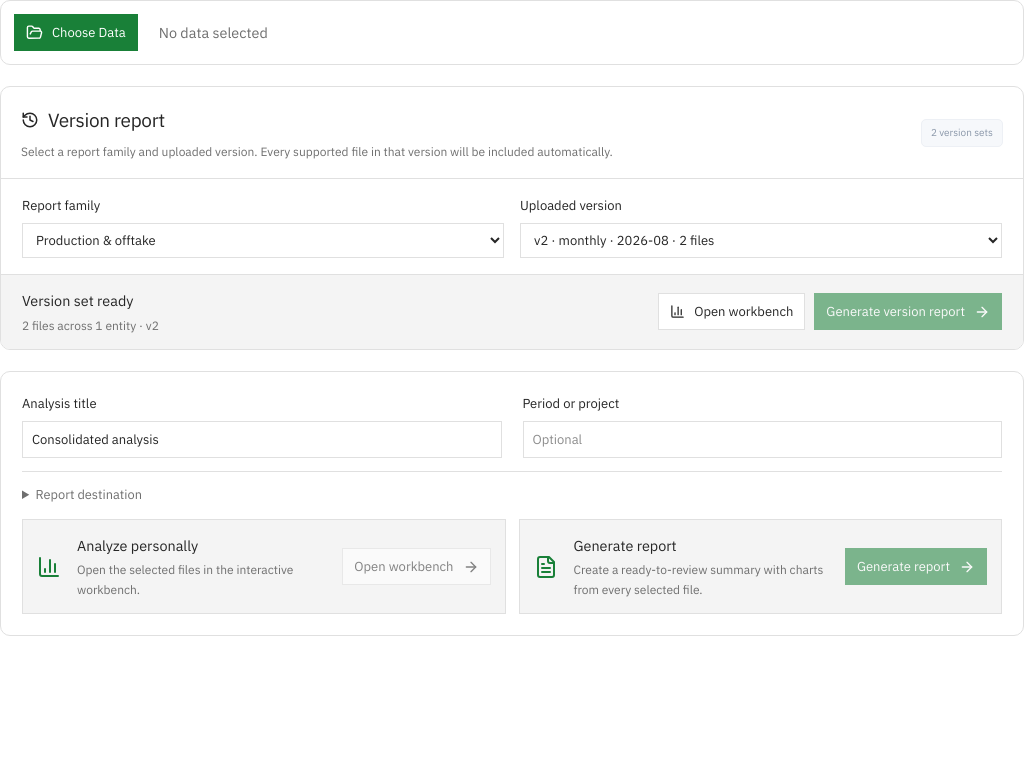
browses and searches the root-wise CIL data hierarchy
The image size is (1024, 768).
Click the button "Choose Data" at [76, 32], box [14,14,138,51]
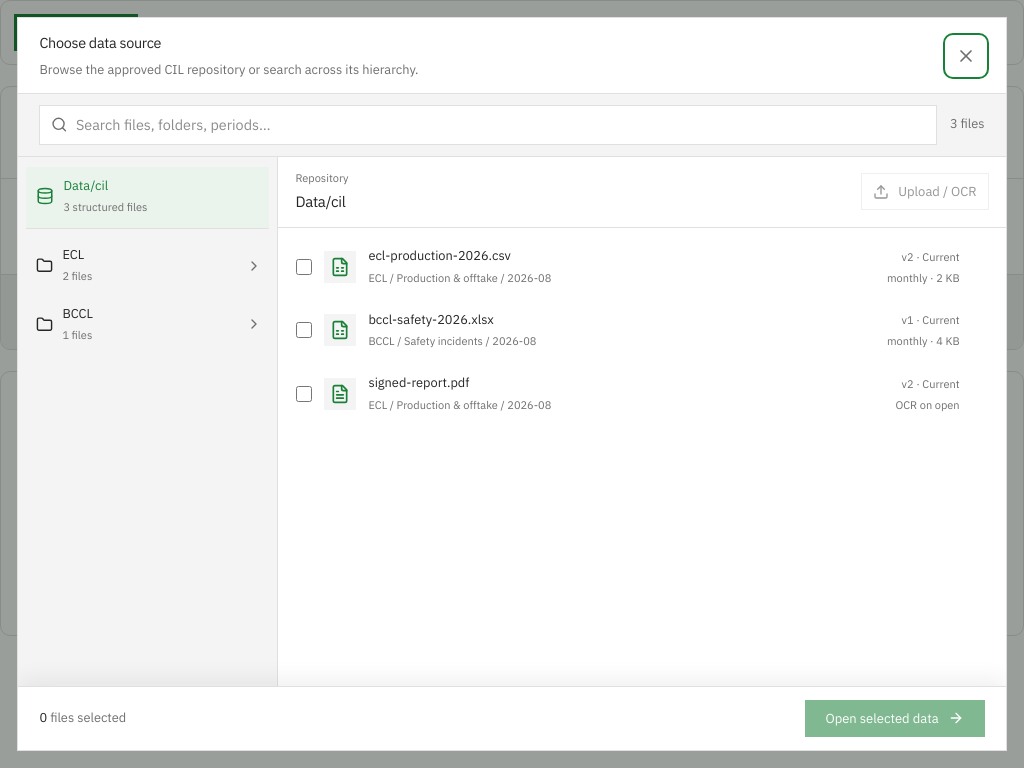
Expected: the navigation bar named "Data hierarchy" is shown, [18,157,278,686]
Expected: the text "Data/cil" is shown 2 times, [63,177,108,194]; [295,190,349,214]
Expected: the text "ecl-production-2026.csv" is shown, [368,247,511,264]
Click the button named "Expand ECL" at [254, 266], box [239,251,269,281]
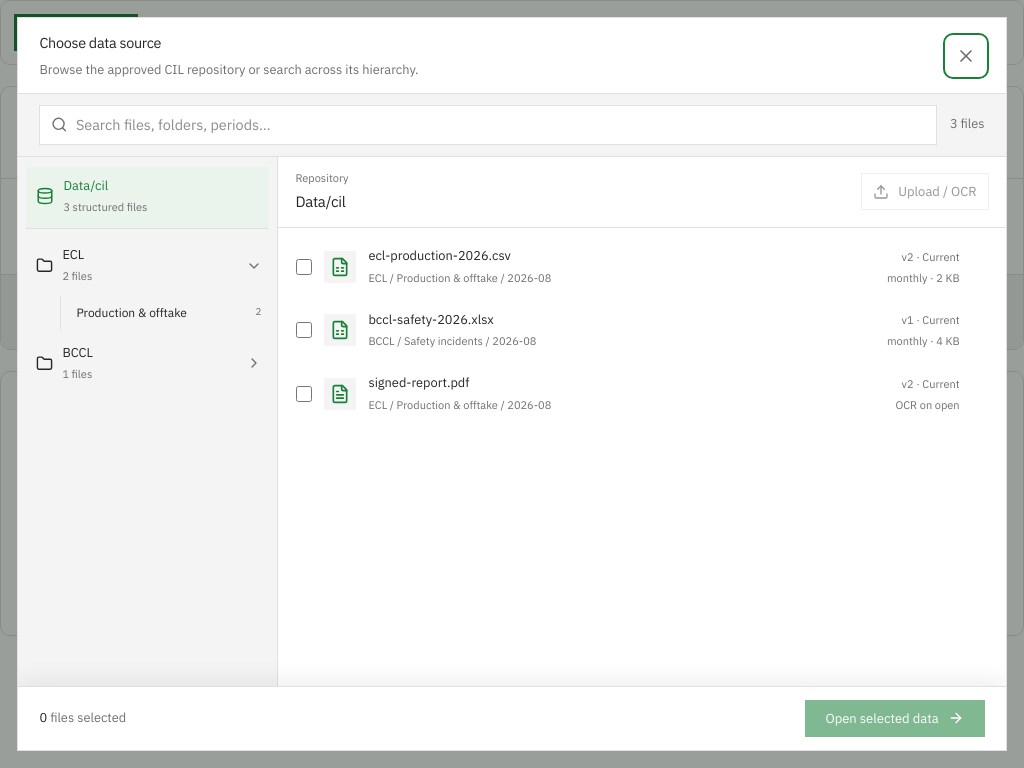
Click the button "Production & offtake 2" at [169, 312], box [68,296,269,329]
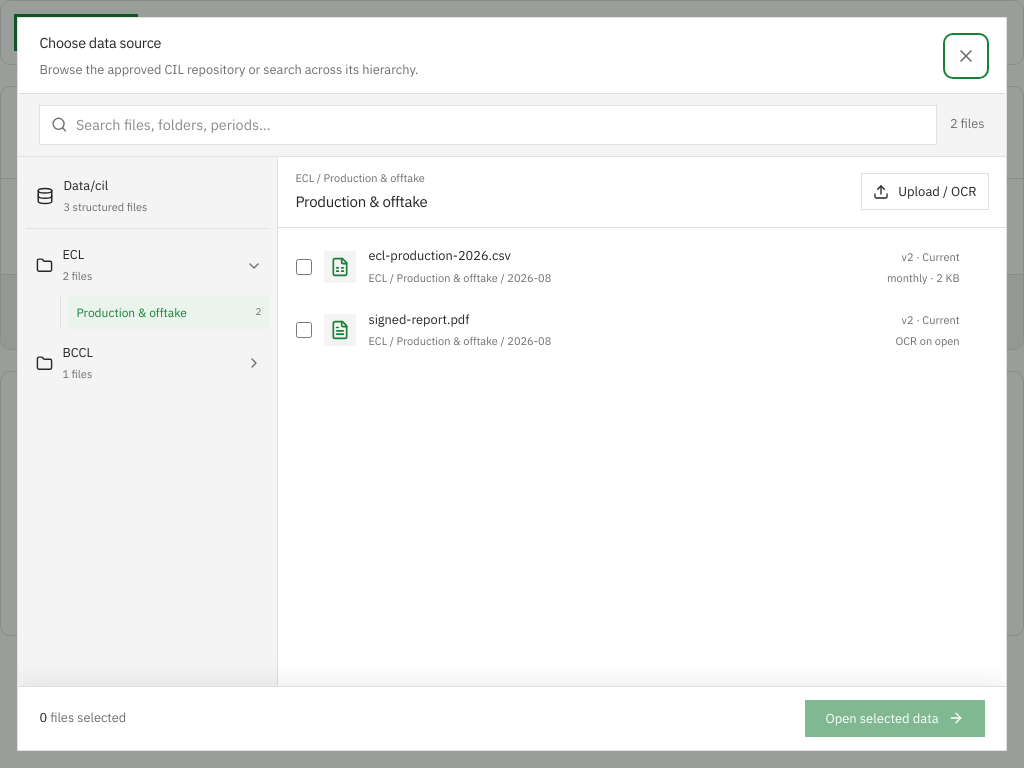
Expected: the text "ecl-production-2026.csv" is shown, [368,247,511,264]
Expected: the text "OCR on open" is shown, [896,334,960,348]
Expected: the text "bccl-safety-2026.xlsx" is gone
Type "BCCL safety" into the field named "Search data hierarchy" at [500, 125], box [76,106,925,144]
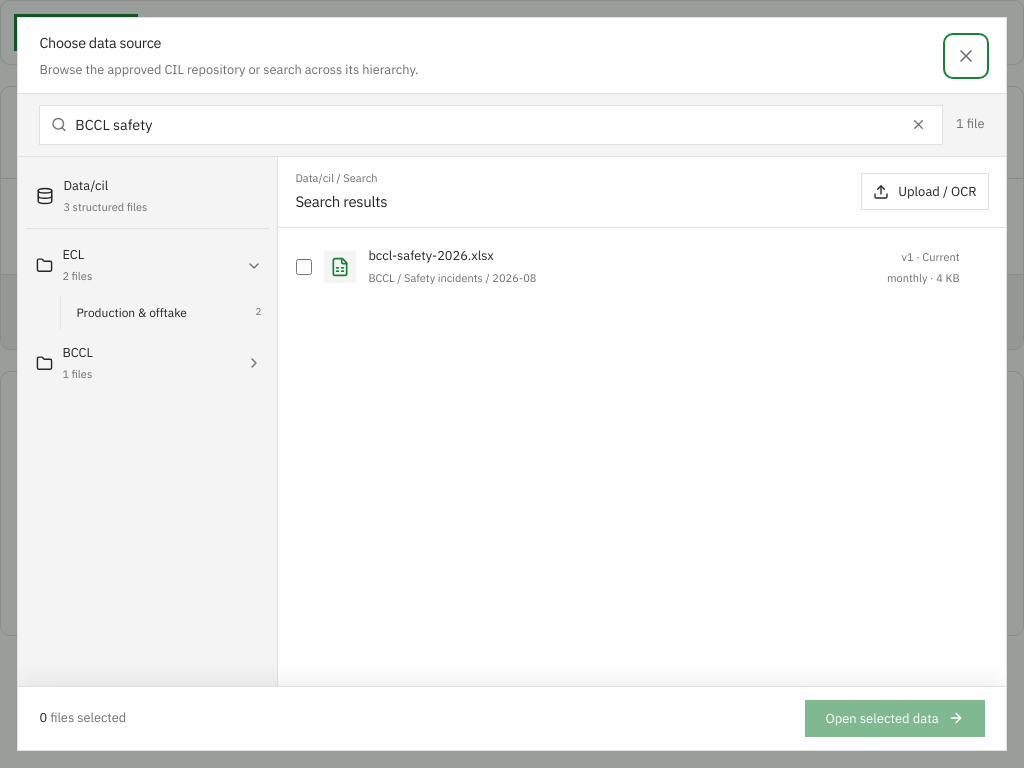
Expected: the text "bccl-safety-2026.xlsx" is shown, [368,247,494,264]
Expected: the text "ecl-production-2026.csv" is gone
